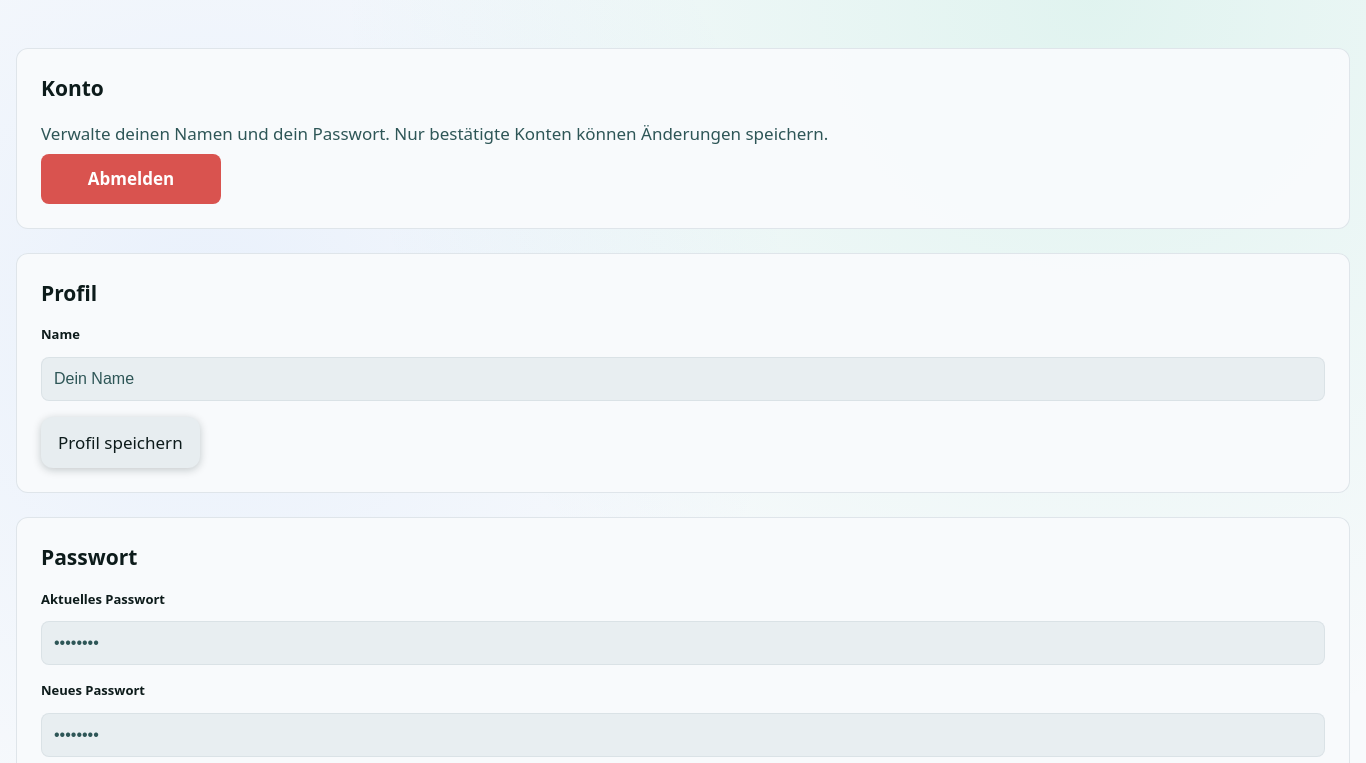
Test: UserSettings › speichert das Profil erfolgreich
Type "Amy" into the field labelled "Name".
click(683, 378); type("Amy")  # box [41, 356, 1325, 400]
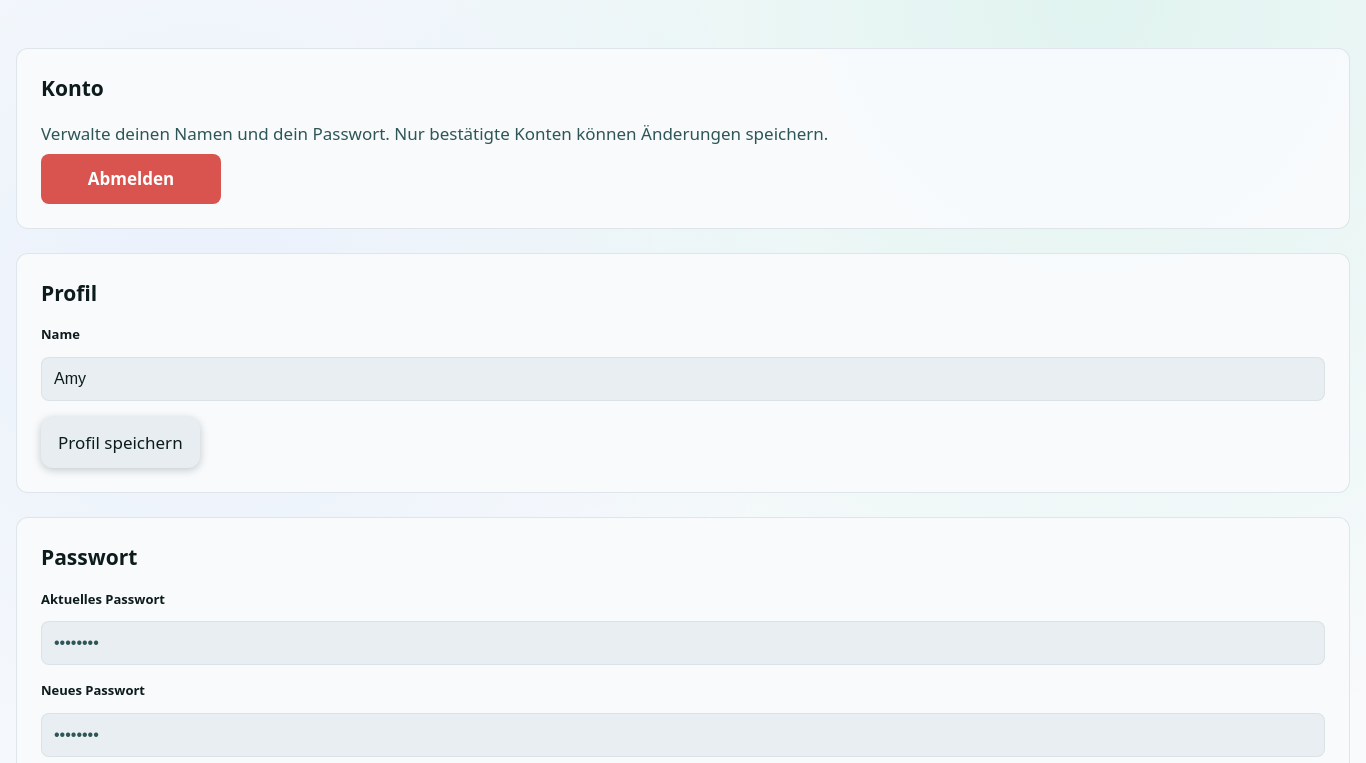
Click the button "Profil speichern".
click(120, 442)  # box [41, 416, 200, 468]
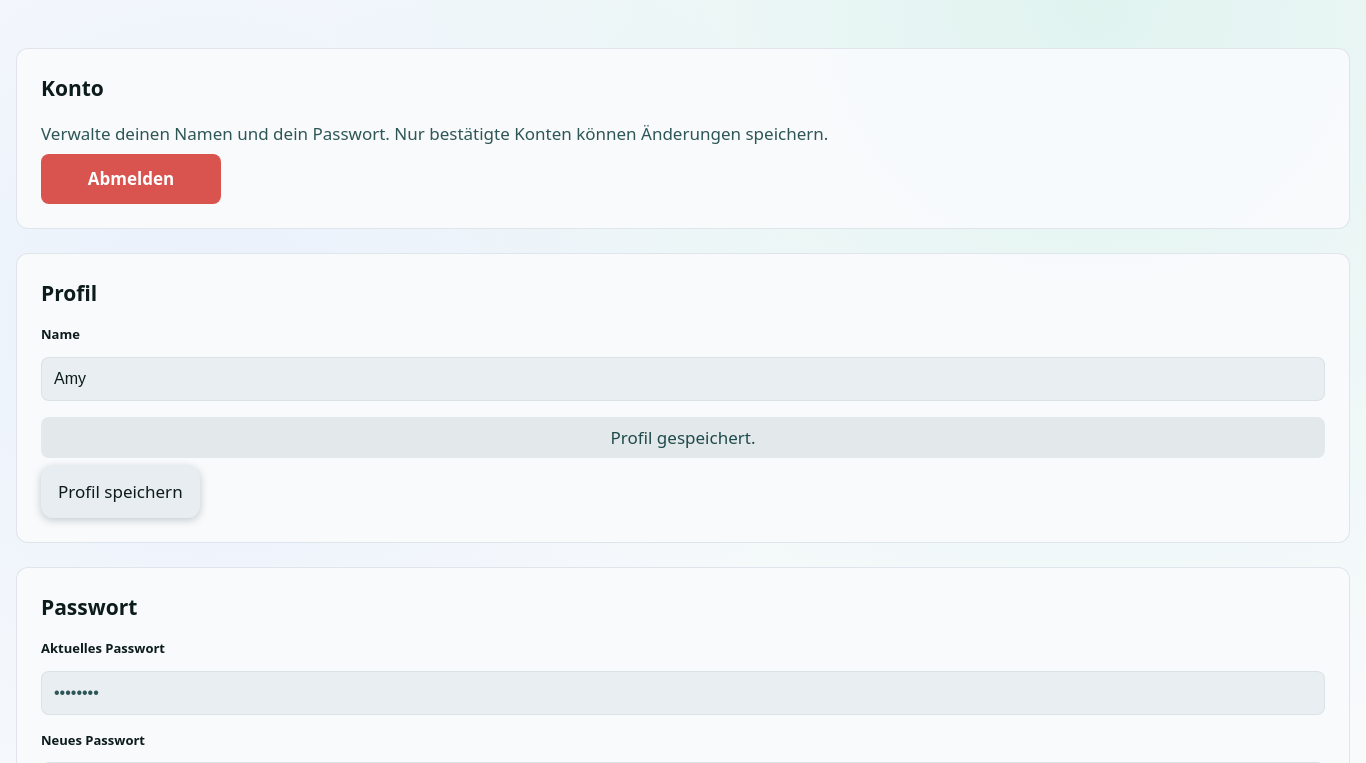
Expected: the text "Profil gespeichert." is shown, [41, 416, 1325, 458]
